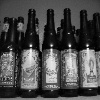beer: (20, 9, 40, 96)
